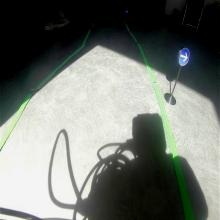right: (178, 46, 190, 66)
